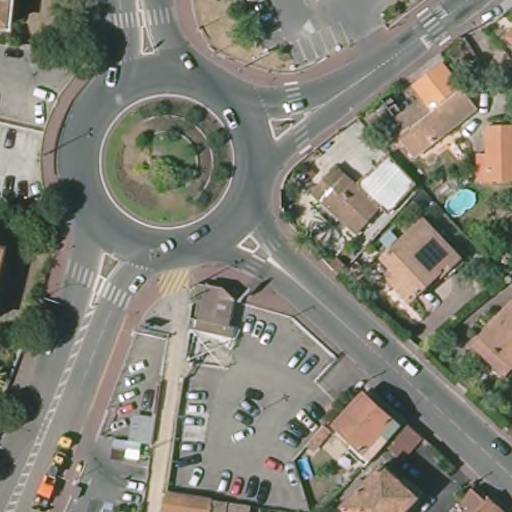pool: (442, 186, 479, 219), (294, 455, 315, 482)
